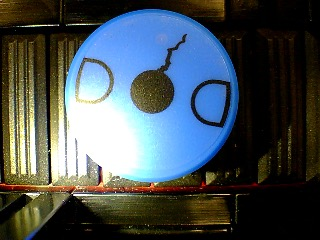CRACK: (64, 9, 240, 183)
